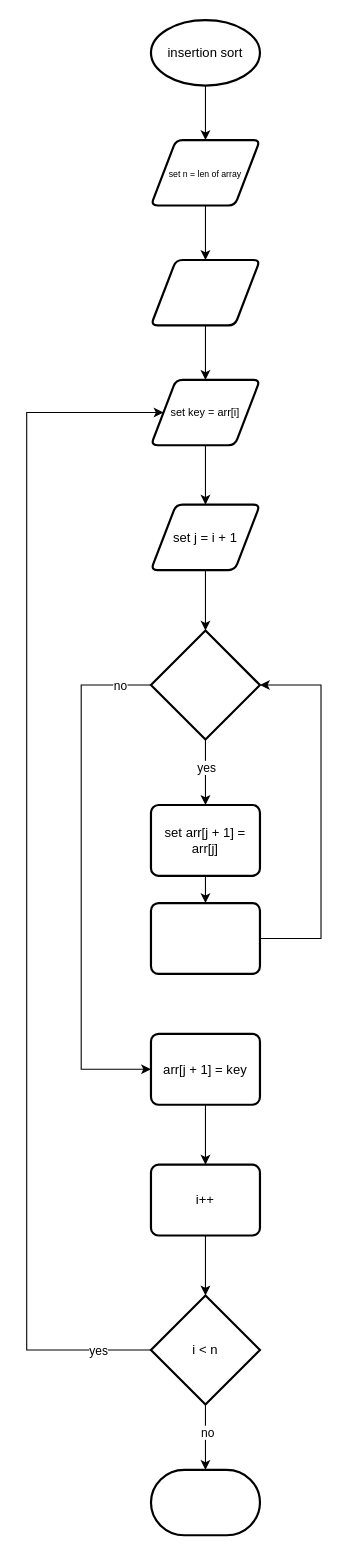
Image size: 349x1554. Some labels were removed from this diagram. The shapes that lost their labels are listed below. From the top down, each one's centre as x and y in pixels, then its label:
the point at 205,292: set i = 1
the point at 205,684: j >= 0 AND arr[j] > key
the point at 205,937: j--
the point at 205,1502: sorted array
